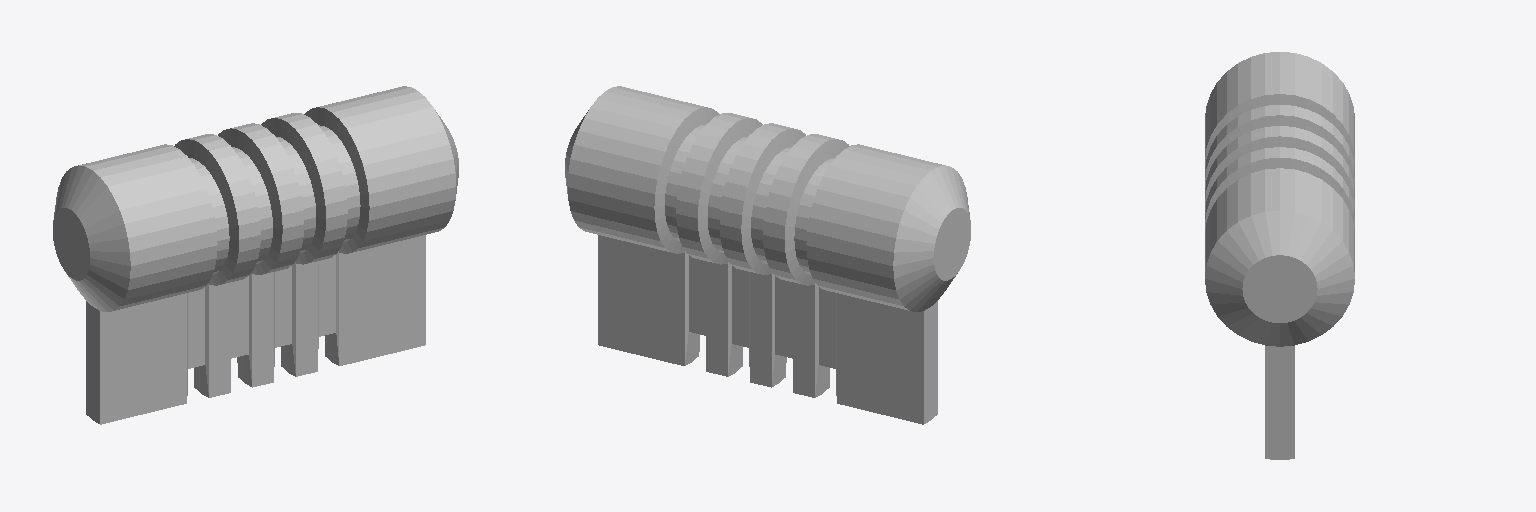
The model's file is fence_addon.obj.
3 renders of one model, left to right at view 1: azimuth 30°, elevation 25°; view 2: azimuth 150°, elevation 25°; view 3: azimuth 270°, elevation 25°, orthographic.
Visible parts, largest first — view 1: Cylinder.012_Cylinder.024; view 2: Cylinder.012_Cylinder.024; view 3: Cylinder.012_Cylinder.024.
Boxes of the visible parts, x1=… form: Cylinder.012_Cylinder.024: x1=53, y1=86, x2=458, y2=424; Cylinder.012_Cylinder.024: x1=565, y1=86, x2=970, y2=424; Cylinder.012_Cylinder.024: x1=1205, y1=52, x2=1354, y2=459.
Bounding box in the file's own units: 1.7 × 1.1 × 0.6.